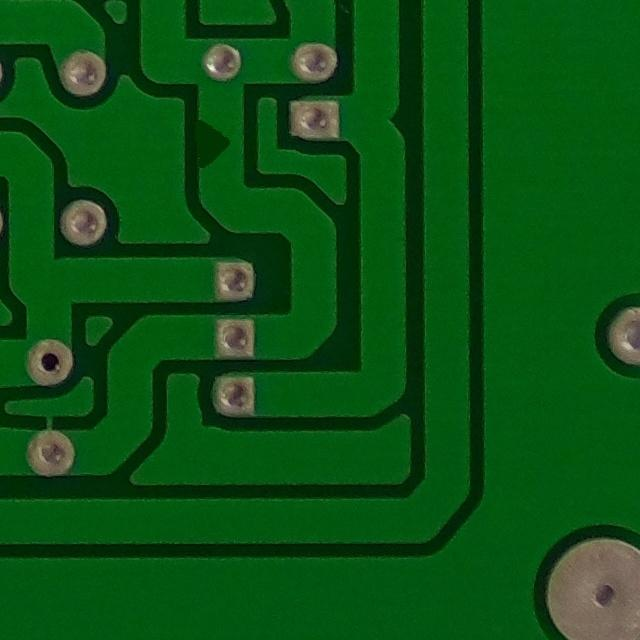mouse_bite: (186, 95, 248, 201)
